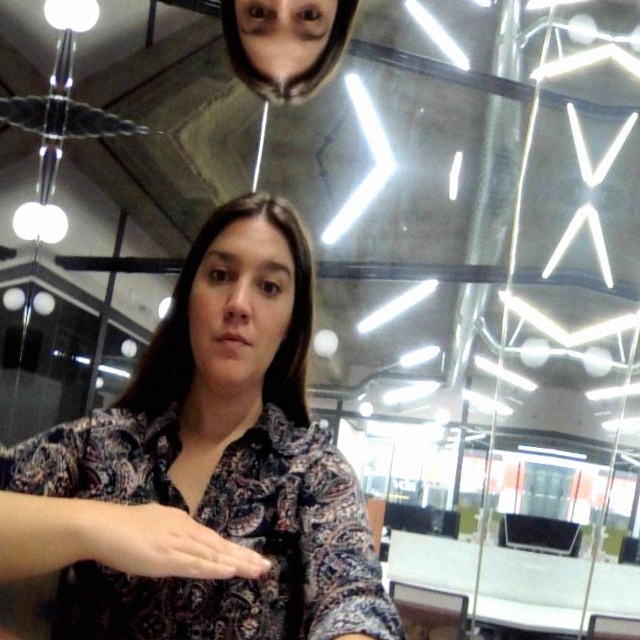Paper: (82, 492, 282, 600)
